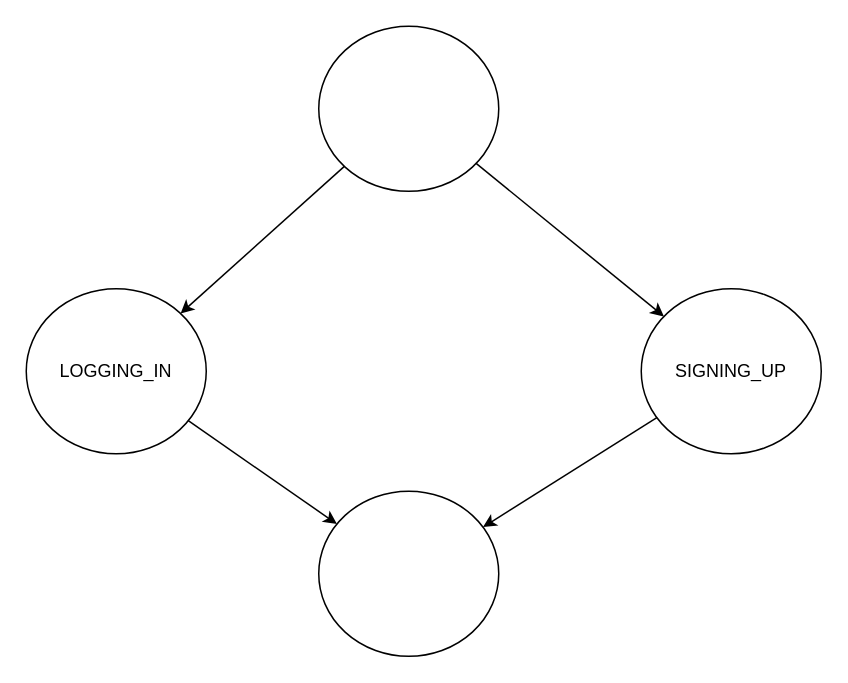
The diagram is 848 pixels wide and 683 high, and some of its shapes have lost their labels. The shapes that lost their labels are listed below. From the top down, each one's centre as x and y in pixels, then its label:
the point at 408,108: LOGGED_OUT
the point at 408,573: LOGGED_IN
